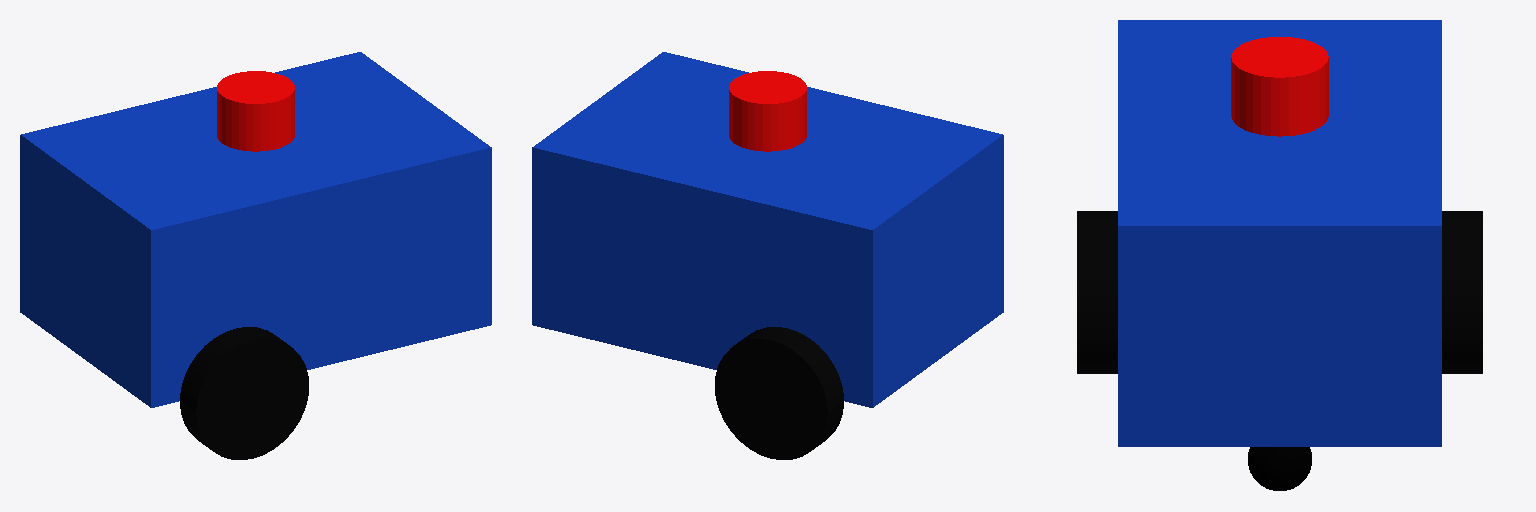
URDF robot description (my_robot):
<?xml version="1.0"?>

<robot name="my_robot">

  <!-- ===================================================== -->
  <!-- BASE                                                   -->
  <!-- ===================================================== -->

  <link name="base_link">

    <visual>
      <origin xyz="0 0 0.25" rpy="0 0 0"/>
      <geometry>
        <box size="0.6 0.4 0.3"/>
      </geometry>
      <material name="blue">
        <color rgba="0.1 0.3 0.8 1.0"/>
      </material>
    </visual>

    <collision>
      <origin xyz="0 0 0.25" rpy="0 0 0"/>
      <geometry>
        <box size="0.6 0.4 0.3"/>
      </geometry>
    </collision>

    <inertial>
      <origin xyz="0 0 0.25" rpy="0 0 0"/>
      <mass value="5.0"/>
      <inertia
        ixx="0.1167"
        ixy="0.0"
        ixz="0.0"
        iyy="0.175"
        iyz="0.0"
        izz="0.2417"/>
    </inertial>

  </link>


  <!-- ===================================================== -->
  <!-- LEFT DRIVE WHEEL                                      -->
  <!-- ===================================================== -->

  <link name="left_wheel_link">

    <visual>
      <origin xyz="0 0 0" rpy="1.5708 0 0"/>
      <geometry>
        <cylinder radius="0.1" length="0.05"/>
      </geometry>
      <material name="black">
        <color rgba="0.05 0.05 0.05 1.0"/>
      </material>
    </visual>

    <collision>
      <origin xyz="0 0 0" rpy="1.5708 0 0"/>
      <geometry>
        <cylinder radius="0.1" length="0.05"/>
      </geometry>
    </collision>

    <inertial>
      <mass value="0.5"/>
      <inertia
        ixx="0.0025"
        ixy="0.0"
        ixz="0.0"
        iyy="0.0025"
        iyz="0.0"
        izz="0.0025"/>
    </inertial>

  </link>


  <!-- ===================================================== -->
  <!-- RIGHT DRIVE WHEEL                                     -->
  <!-- ===================================================== -->

  <link name="right_wheel_link">

    <visual>
      <origin xyz="0 0 0" rpy="1.5708 0 0"/>
      <geometry>
        <cylinder radius="0.1" length="0.05"/>
      </geometry>
      <material name="black">
        <color rgba="0.05 0.05 0.05 1.0"/>
      </material>
    </visual>

    <collision>
      <origin xyz="0 0 0" rpy="1.5708 0 0"/>
      <geometry>
        <cylinder radius="0.1" length="0.05"/>
      </geometry>
    </collision>

    <inertial>
      <mass value="0.5"/>
      <inertia
        ixx="0.0025"
        ixy="0.0"
        ixz="0.0"
        iyy="0.0025"
        iyz="0.0"
        izz="0.0025"/>
    </inertial>

  </link>


  <!-- ===================================================== -->
  <!-- DRIVE WHEEL JOINTS                                    -->
  <!-- Wheels moved backward: X = -0.10                     -->
  <!-- ===================================================== -->

  <joint name="left_wheel_joint" type="continuous">

    <parent link="base_link"/>
    <child link="left_wheel_link"/>

    <origin xyz="-0.15 0.225 0.10" rpy="0 0 0"/>

    <axis xyz="0 1 0"/>

  </joint>


  <joint name="right_wheel_joint" type="continuous">

    <parent link="base_link"/>
    <child link="right_wheel_link"/>

    <origin xyz="-0.15 -0.225 0.10" rpy="0 0 0"/>

    <axis xyz="0 1 0"/>

  </joint>


  <!-- ===================================================== -->
  <!-- FRONT CASTER WHEEL                                    -->
  <!-- ===================================================== -->

  <link name="caster_link">

    <visual>
      <origin xyz="0 0 0" rpy="0 0 0"/>
      <geometry>
        <sphere radius="0.04"/>
      </geometry>
      <material name="caster_black">
        <color rgba="0.02 0.02 0.02 1.0"/>
      </material>
    </visual>

    <collision>
      <origin xyz="0 0 0" rpy="0 0 0"/>
      <geometry>
        <sphere radius="0.04"/>
      </geometry>
    </collision>

    <inertial>
      <origin xyz="0 0 0" rpy="0 0 0"/>
      <mass value="0.15"/>
      <inertia
        ixx="0.0002"
        ixy="0.0"
        ixz="0.0"
        iyy="0.0002"
        iyz="0.0"
        izz="0.0002"/>
    </inertial>

  </link>


  <!-- ===================================================== -->
  <!-- FRONT CASTER JOINT                                    -->
  <!-- Caster is under the front of body and touches ground -->
  <!-- ===================================================== -->

  <joint name="caster_joint" type="fixed">

    <parent link="base_link"/>
    <child link="caster_link"/>

    <origin xyz="0.25 0 0.06" rpy="0 0 0"/>

  </joint>

  <gazebo reference="caster_link">
    <mu1>0.8</mu1>
    <mu2>0.8</mu2>
    <kp>100000</kp>
    <kd>1000</kd>
  </gazebo>


  <!-- ===================================================== -->
  <!-- LIDAR                                                  -->
  <!-- ===================================================== -->

  <link name="lidar_link">

    <visual>
      <origin xyz="0 0 0" rpy="0 0 0"/>
      <geometry>
        <cylinder radius="0.06" length="0.08"/>
      </geometry>
      <material name="lidar_red">
        <color rgba="1.0 0.05 0.05 1.0"/>
      </material>
    </visual>

    <collision>
      <origin xyz="0 0 0" rpy="0 0 0"/>
      <geometry>
        <cylinder radius="0.06" length="0.08"/>
      </geometry>
    </collision>

    <inertial>
      <origin xyz="0 0 0" rpy="0 0 0"/>
      <mass value="0.1"/>
      <inertia
        ixx="0.0001"
        ixy="0.0"
        ixz="0.0"
        iyy="0.0001"
        iyz="0.0"
        izz="0.0001"/>
    </inertial>

  </link>


  <!-- ===================================================== -->
  <!-- LIDAR FIXED JOINT                                    -->
  <!-- ===================================================== -->

  <joint name="lidar_joint" type="fixed">

    <parent link="base_link"/>
    <child link="lidar_link"/>

    <origin xyz="0 0 0.45" rpy="0 0 0"/>

  </joint>


  <!-- ===================================================== -->
  <!-- GAZEBO LIDAR SENSOR                                  -->
  <!-- ===================================================== -->

  <gazebo reference="lidar_link">

    <sensor name="lidar_sensor" type="ray">

      <pose>0 0 0 0 0 0</pose>

      <visualize>true</visualize>

      <update_rate>10</update_rate>

      <ray>

        <scan>

          <horizontal>

            <samples>360</samples>
            <resolution>1</resolution>
            <min_angle>-3.14159</min_angle>
            <max_angle>3.14159</max_angle>

          </horizontal>

        </scan>

        <range>

          <min>0.12</min>
          <max>10.0</max>
          <resolution>0.01</resolution>

        </range>

      </ray>

      <plugin
        name="lidar_plugin"
        filename="libgazebo_ros_ray_sensor.so">

        <ros>
          <namespace>/</namespace>
          <remapping>~/out:=scan</remapping>
        </ros>

        <output_type>sensor_msgs/LaserScan</output_type>

        <frame_name>lidar_link</frame_name>

      </plugin>

    </sensor>

  </gazebo>


  <!-- ===================================================== -->
  <!-- GAZEBO DIFFERENTIAL DRIVE                            -->
  <!-- ===================================================== -->

  <gazebo>

    <plugin
      name="diff_drive"
      filename="libgazebo_ros_diff_drive.so">

      <ros>
        <namespace>/</namespace>
      </ros>

      <update_rate>50</update_rate>

      <left_joint>left_wheel_joint</left_joint>
      <right_joint>right_wheel_joint</right_joint>

      <wheel_separation>0.45</wheel_separation>
      <wheel_diameter>0.2</wheel_diameter>

      <max_wheel_torque>20</max_wheel_torque>
      <max_wheel_acceleration>2</max_wheel_acceleration>

      <command_topic>cmd_vel</command_topic>

      <odometry_topic>odom</odometry_topic>

      <odometry_frame>odom</odometry_frame>
      <robot_base_frame>base_link</robot_base_frame>

      <publish_odom>true</publish_odom>
      <publish_odom_tf>true</publish_odom_tf>
      <publish_wheel_tf>true</publish_wheel_tf>

    </plugin>


    <!-- ================================================= -->
    <!-- JOINT STATE PUBLISHER                             -->
    <!-- ================================================= -->

    <plugin
      name="joint_state_publisher"
      filename="libgazebo_ros_joint_state_publisher.so">

      <update_rate>50</update_rate>

      <joint_name>left_wheel_joint</joint_name>
      <joint_name>right_wheel_joint</joint_name>

    </plugin>

  </gazebo>

</robot>

--- Facts derived from the render (not from the file) ---
Views: 3 orthographic renders of the robot side by side, from view 1: azimuth 30°, elevation 25°; view 2: azimuth 150°, elevation 25°; view 3: azimuth 270°, elevation 25°.
Model my_robot with 5 links and 4 joints (2 continuous, 2 fixed), rooted at base_link, posed all joints at 0.
Links seen in each view (by area): view 1: base_link, right_wheel_link, lidar_link; view 2: base_link, left_wheel_link, lidar_link; view 3: base_link, lidar_link, left_wheel_link, right_wheel_link, caster_link.
Boxes of the visible links, x1,y1,x2,y2 form: base_link: (20,52,491,407); right_wheel_link: (180,327,308,459); lidar_link: (217,71,294,151); base_link: (532,52,1003,407); left_wheel_link: (715,327,843,459); lidar_link: (729,71,806,151); base_link: (1118,20,1441,446); lidar_link: (1231,37,1328,136); left_wheel_link: (1442,211,1482,373); right_wheel_link: (1077,211,1117,373); caster_link: (1248,447,1311,490).
Size in the robot's own frame: 0.6 by 0.5 by 0.49 metres.
Geometry: primitives only (box / cylinder / sphere), no mesh files.
